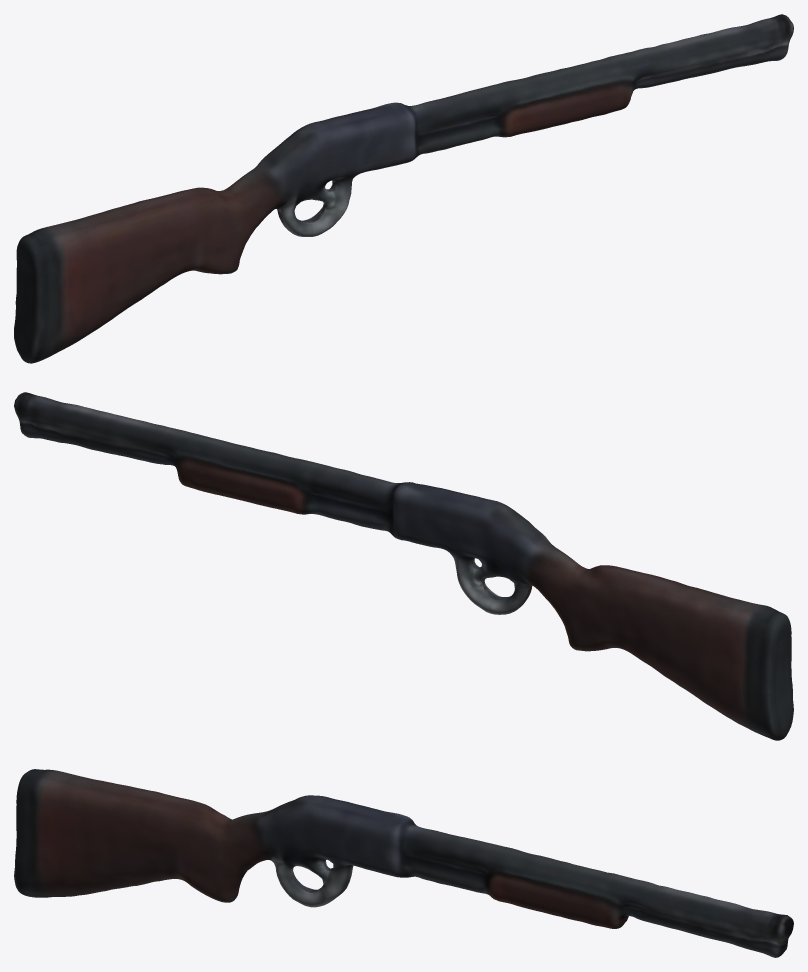
Rendered from 54d339a7bc97_hunting_gun__3d_ass.fbx.
The picture shows the model from 3 angles, top to bottom: view 1: azimuth 30°, elevation 25°; view 2: azimuth 150°, elevation 25°; view 3: azimuth 330°, elevation 25°; orthographic projection.
Parts seen in each view (by area): view 1: mesh; view 2: mesh; view 3: mesh.
Part boxes in pixels (x1,y1,x2,y2): mesh: [14, 14, 793, 363]; mesh: [14, 392, 793, 740]; mesh: [14, 769, 793, 957].
Size of the model in its own units: 99.97 by 20.76 by 5.9.
